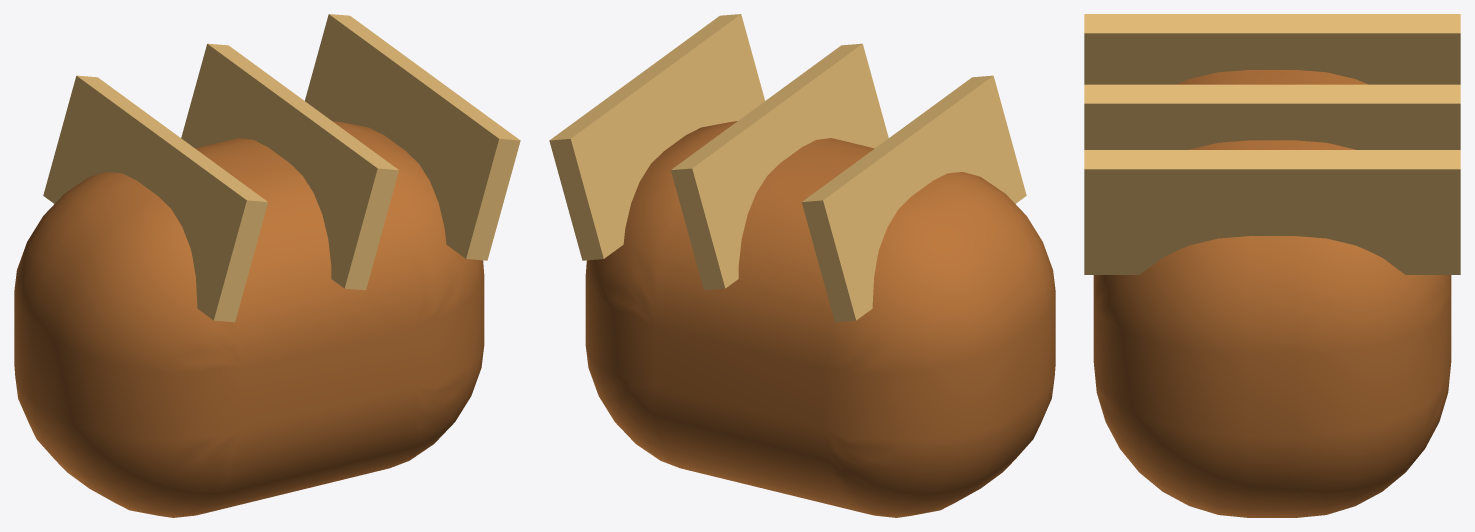
The model's file is product-bread.glb.
3 renders of one model, left to right at view 1: azimuth 30°, elevation 25°; view 2: azimuth 150°, elevation 25°; view 3: azimuth 270°, elevation 25°, orthographic. The views are drawn at different scales.
Parts seen in each view (by area): view 1: n3, n6, n4, n5; view 2: n3, n6, n4, n5; view 3: n3, n6, n4, n5.
Boxes of the visible parts, x1,y1,x2,y2 form: n3: [14, 121, 484, 517]; n6: [305, 14, 520, 260]; n4: [43, 75, 268, 322]; n5: [181, 43, 398, 290]; n3: [585, 121, 1055, 517]; n6: [549, 14, 764, 260]; n4: [801, 75, 1026, 322]; n5: [671, 43, 888, 290]; n3: [1093, 70, 1451, 517]; n6: [1084, 150, 1460, 274]; n4: [1084, 14, 1460, 84]; n5: [1084, 84, 1460, 149].
Size of the model in its own units: 0.22 by 0.1834 by 0.158.
